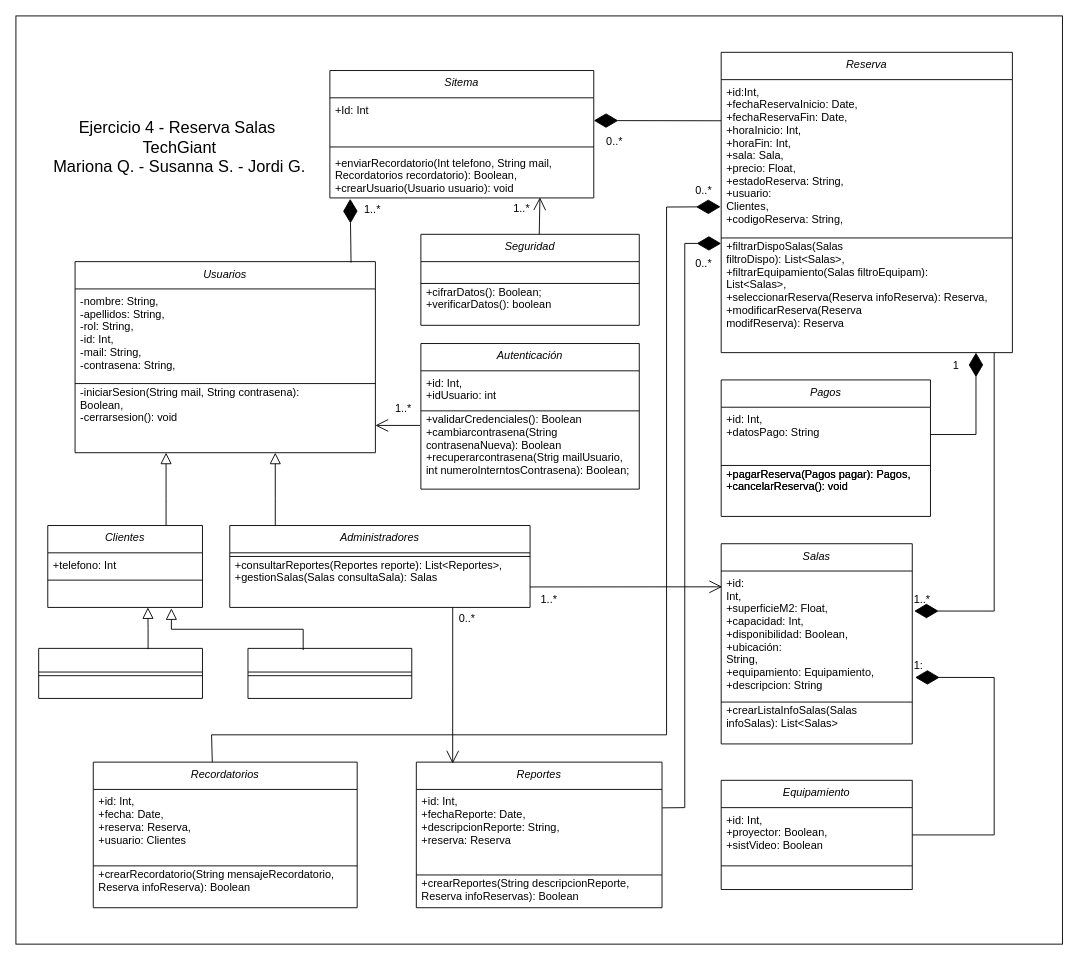
This 1078x960 diagram has some shape labels left out. Here are the shapes that lost their labels. From the top down, the centre of each, then its label:
At (120,672): "Empleados".
At (329,672): "Clientes_Externos".
